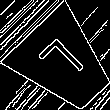L_SE: (35, 35, 93, 93)
